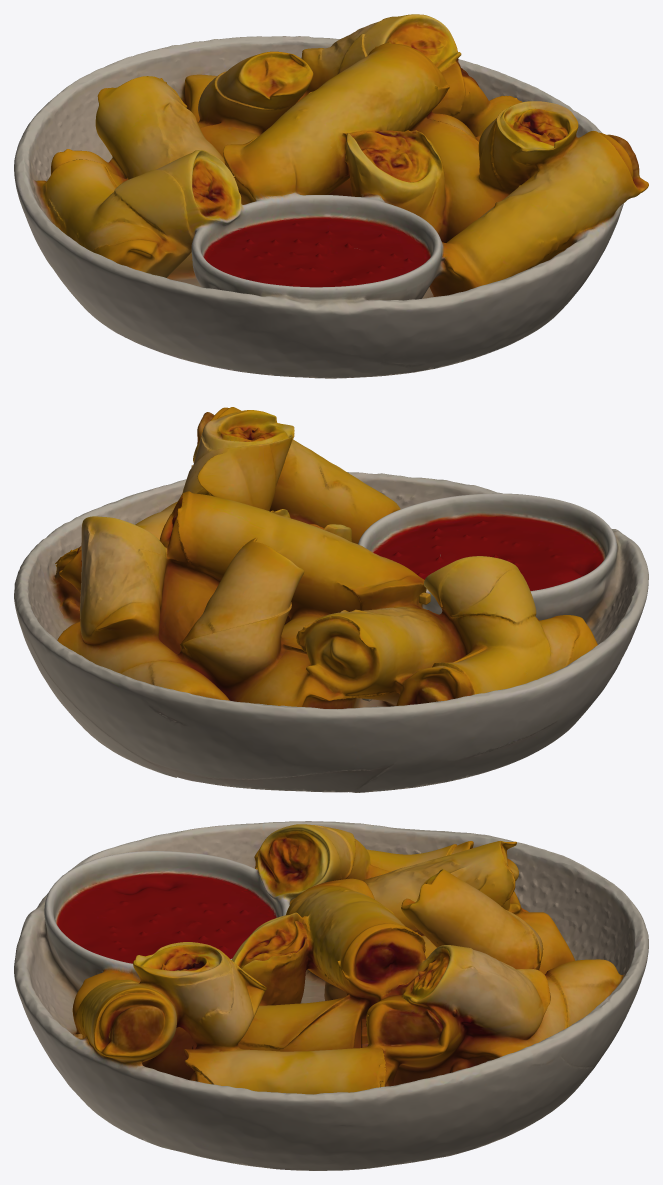
The model's file is spring.glb.
3 views of the same model, one above another, from view 1: azimuth 30°, elevation 25°; view 2: azimuth 150°, elevation 25°; view 3: azimuth 270°, elevation 25° (orthographic). The views are drawn at different scales.
Parts seen in each view (by area): view 1: tripo_node_22fd38d5-2757-4e86-9d41-01410abf8744; view 2: tripo_node_22fd38d5-2757-4e86-9d41-01410abf8744; view 3: tripo_node_22fd38d5-2757-4e86-9d41-01410abf8744.
Part boxes in pixels (x1,y1,x2,y2): tripo_node_22fd38d5-2757-4e86-9d41-01410abf8744: (14,14,648,378); tripo_node_22fd38d5-2757-4e86-9d41-01410abf8744: (14,407,648,792); tripo_node_22fd38d5-2757-4e86-9d41-01410abf8744: (14,821,648,1170).
Bounding box in the file's own units: 5.59 × 1.86 × 5.59.
Materials: 1 (1 with a texture image).
